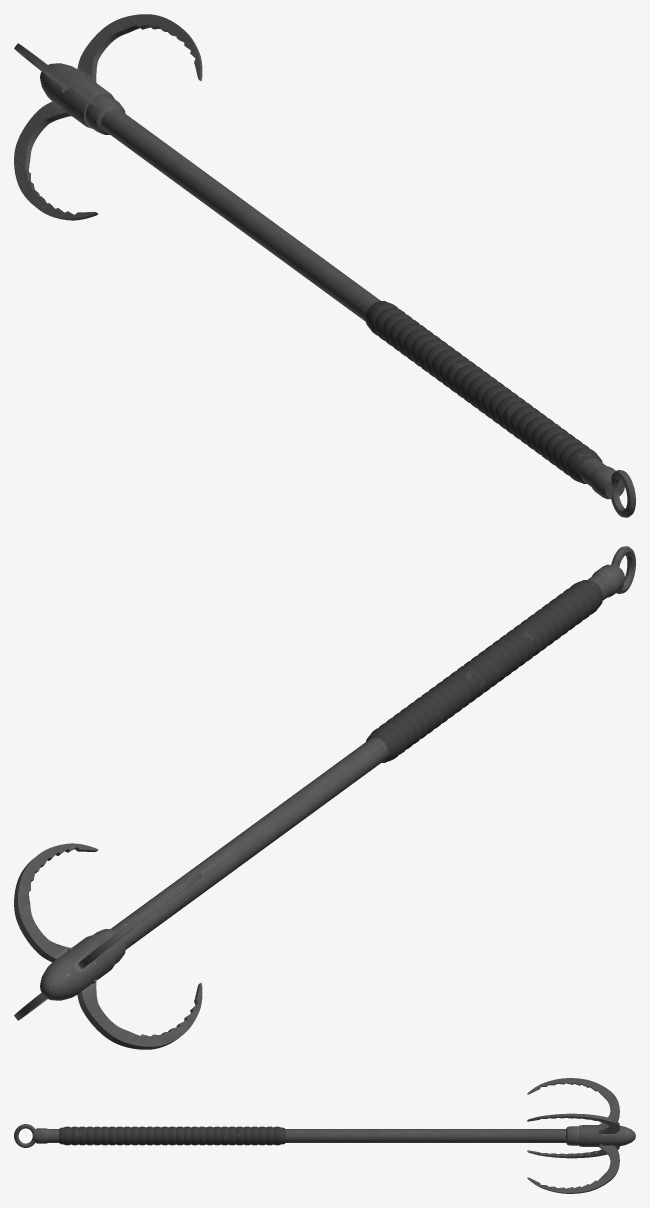
The model's file is GrapplingHookBolt.fbx.
3 renders of one model, top to bottom at view 1: azimuth 30°, elevation 25°; view 2: azimuth 150°, elevation 25°; view 3: azimuth 270°, elevation 25°, orthographic. The views are drawn at different scales.
Parts seen in each view (by area): view 1: GrapplingHookBolt; view 2: GrapplingHookBolt; view 3: GrapplingHookBolt.
Boxes of the visible parts, <box> form: GrapplingHookBolt: <box>14,14,635,517</box>; GrapplingHookBolt: <box>14,546,635,1049</box>; GrapplingHookBolt: <box>14,1078,635,1193</box>.
Size of the model in its own units: 0.0708 by 0.0708 by 0.4978.
1 material, 1 textured.
